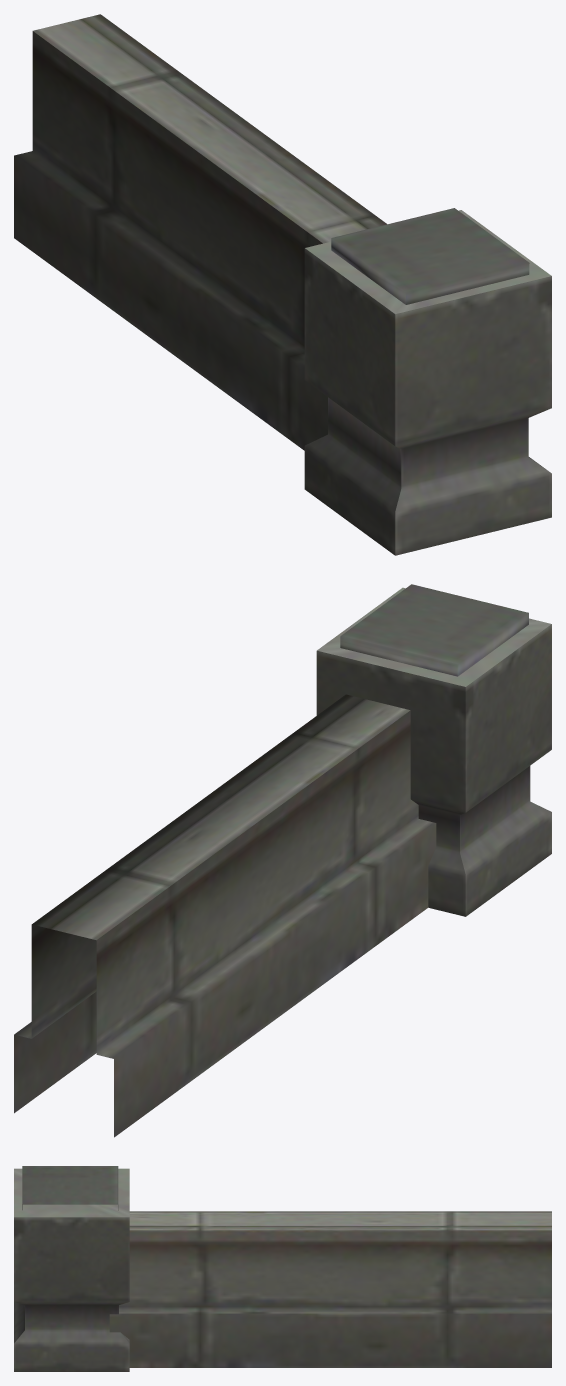
The model's file is City_bujian_30.fbx.
3 views of the same model, one above another, from view 1: azimuth 30°, elevation 25°; view 2: azimuth 150°, elevation 25°; view 3: azimuth 270°, elevation 25° (orthographic). The views are drawn at different scales.
Parts seen in each view (by area): view 1: City_1_2017_3_7_2:City_1_2017_3_7_2:City_1_2017_3_7_2:polySu; view 2: City_1_2017_3_7_2:City_1_2017_3_7_2:City_1_2017_3_7_2:polySu; view 3: City_1_2017_3_7_2:City_1_2017_3_7_2:City_1_2017_3_7_2:polySu.
Boxes of the visible parts, x1,y1,x2,y2 form: City_1_2017_3_7_2:City_1_2017_3_7_2:City_1_2017_3_7_2:polySu: (14, 14, 551, 555); City_1_2017_3_7_2:City_1_2017_3_7_2:City_1_2017_3_7_2:polySu: (14, 584, 551, 1137); City_1_2017_3_7_2:City_1_2017_3_7_2:City_1_2017_3_7_2:polySu: (14, 1166, 551, 1371).
Size of the model in its own units: 1.14 by 1.76 by 5.27.
